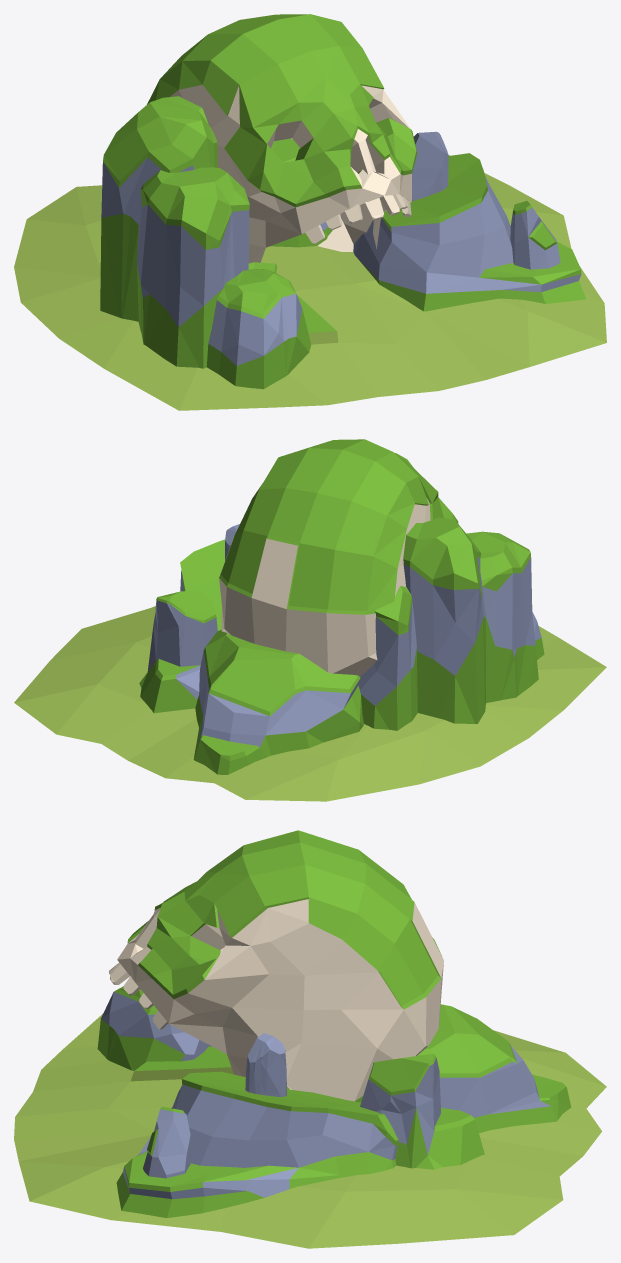
The model's file is Skull Cave_4.fbx.
3 views of the same model, one above another, from view 1: azimuth 30°, elevation 25°; view 2: azimuth 150°, elevation 25°; view 3: azimuth 270°, elevation 25° (orthographic). The views are drawn at different scales.
Parts seen in each view (by area): view 1: Skull Cave_4; view 2: Skull Cave_4; view 3: Skull Cave_4.
Part boxes in pixels (x1,y1,x2,y2): Skull Cave_4: [14, 14, 606, 410]; Skull Cave_4: [14, 439, 606, 801]; Skull Cave_4: [14, 830, 606, 1248].
Size of the model in its own units: 43.71 by 22.41 by 45.06.
